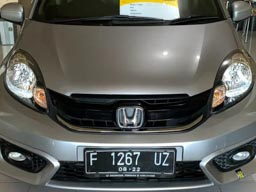plat: (84, 150, 175, 166)
